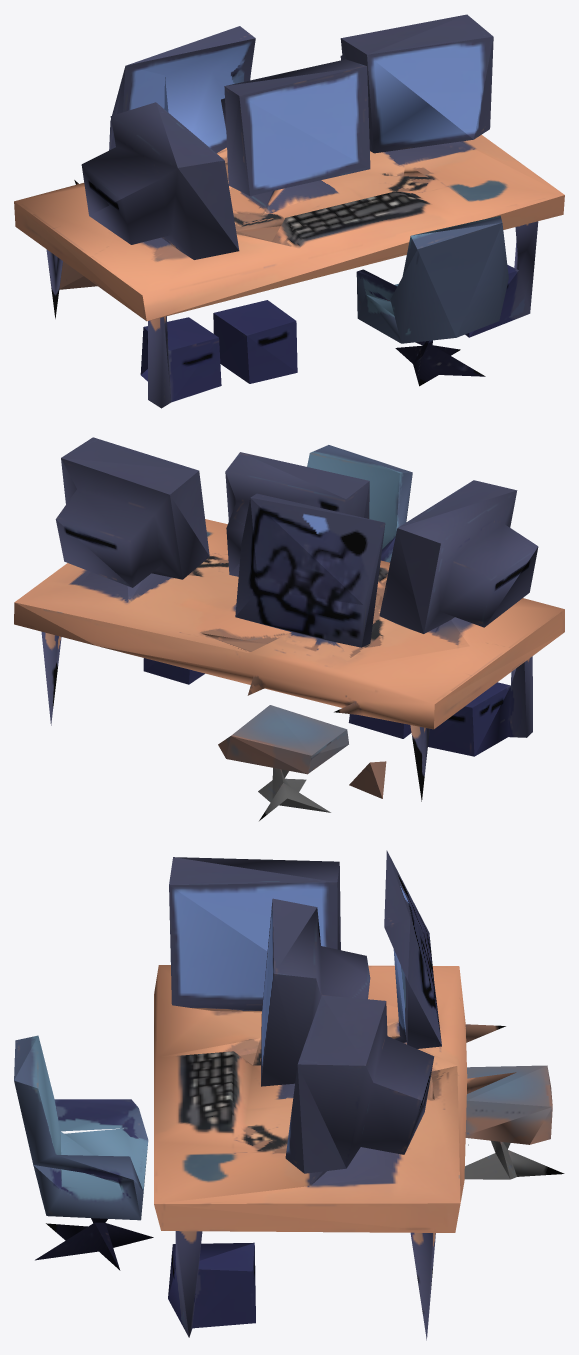
Rendered from hacker-desk.glb.
3 views of the same model, one above another, from view 1: azimuth 30°, elevation 25°; view 2: azimuth 150°, elevation 25°; view 3: azimuth 270°, elevation 25° (orthographic). The views are drawn at different scales.
Parts seen in each view (by area): view 1: geometry_0.001; view 2: geometry_0.001; view 3: geometry_0.001.
Boxes of the visible parts, box(x1,y1,x2,y2) form: geometry_0.001: box(14, 14, 564, 408); geometry_0.001: box(14, 437, 564, 820); geometry_0.001: box(14, 850, 564, 1340).
Bounding box in the file's own units: 0.9934 × 0.6069 × 0.966.
1 material, 1 textured.
